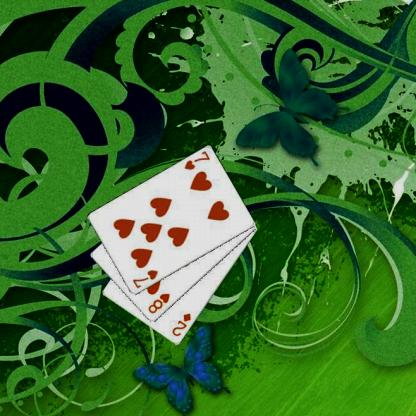2D: (170, 310, 192, 338)
7H: (182, 148, 211, 171), (130, 268, 159, 290)
8H: (146, 291, 172, 315)
